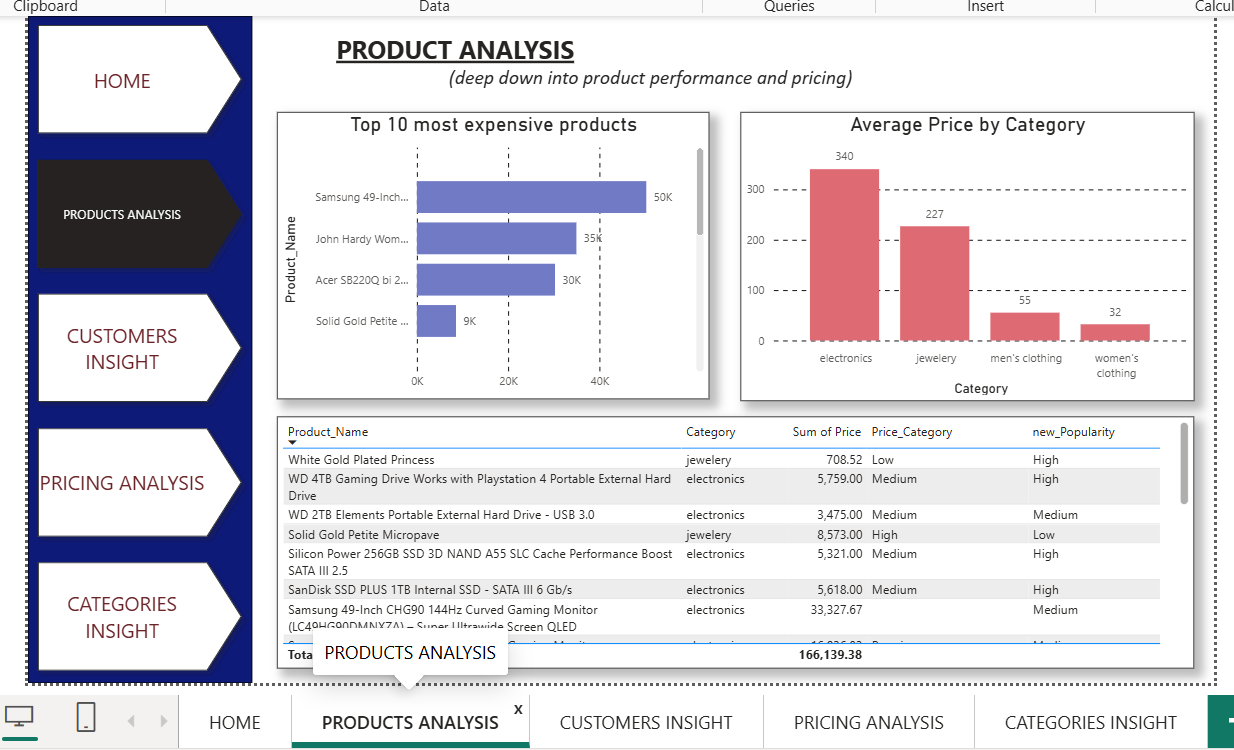

Layout of this report page (visuals, bound fields, positions):
{"tool":"powerbi","page":{"name":"PRODUCTS ANALYSIS","canvas":[1280,720],"ordinal":1},"visuals":[{"type":"barChart","title":"Top 10 most expensive products","fields":{"Category":["cleaned data.Product_Name"],"Y":["Sum(cleaned data.Price)"]},"box":[268.3,103.3,466.7,310],"z":0},{"type":"columnChart","title":"Average  Price by Category","fields":{"Category":["cleaned data.Category"],"Y":["Avg(cleaned data.Price)"]},"box":[768.3,103.3,490,311.7],"z":1000},{"type":"tableEx","fields":{"Values":["cleaned data.Product_Name","cleaned data.Category","Sum(cleaned data.Price)","cleaned data.Price_Category","cleaned data.new_Popularity"]},"box":[268.3,431.7,990,271.7],"z":2000},{"type":"pageNavigator","title":"s","box":[0,0,241.7,720],"z":3000},{"type":"textbox","box":[268.3,13.3,676.7,73.3],"z":4000}]}

Visuals, with their boxes on the page's 1280x720 design canvas (x1, y1, x2, y2). These are canvas units, not pixel positions in the 1234x750 screenshot, which may show the page scaled, cropped or inside an application window:
"Top 10 most expensive products" barChart: pyautogui.locateOnScreen(268, 103, 735, 413)
"Average  Price by Category" columnChart: pyautogui.locateOnScreen(768, 103, 1258, 415)
tableEx - cleaned data.Product_Name x cleaned data.Category: pyautogui.locateOnScreen(268, 432, 1258, 703)
"s" pageNavigator: pyautogui.locateOnScreen(0, 0, 242, 720)
textbox: pyautogui.locateOnScreen(268, 13, 945, 87)
